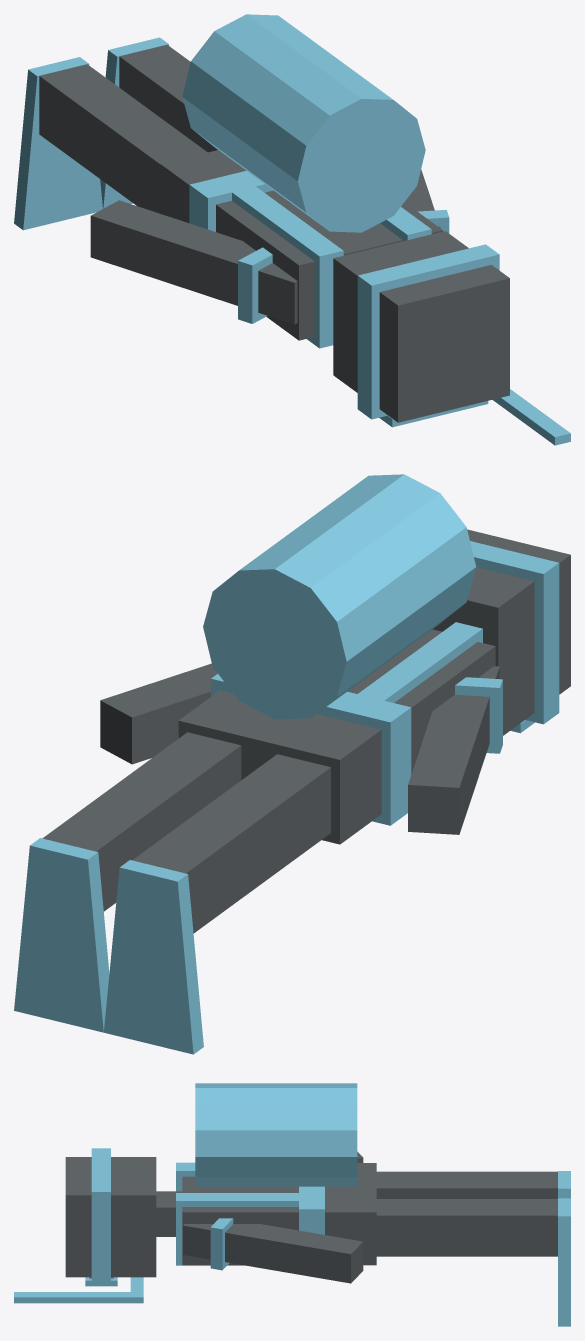
File: tinker.obj
3 renders of one model, top to bottom at view 1: azimuth 30°, elevation 25°; view 2: azimuth 150°, elevation 25°; view 3: azimuth 270°, elevation 25°, orthographic. The views are drawn at different scales.
Parts seen in each view (by area): view 1: group_0_6383466, group_0_8768998; view 2: group_0_8768998, group_0_6383466; view 3: group_0_6383466, group_0_8768998.
Boxes of the visible parts, x1,y1,x2,y2 form: group_0_6383466: [39, 44, 509, 422]; group_0_8768998: [14, 14, 570, 445]; group_0_8768998: [14, 474, 559, 1054]; group_0_6383466: [42, 529, 570, 933]; group_0_6383466: [65, 1151, 557, 1283]; group_0_8768998: [14, 1083, 570, 1326].
Size of the model in its own units: 40 by 36 by 86.
